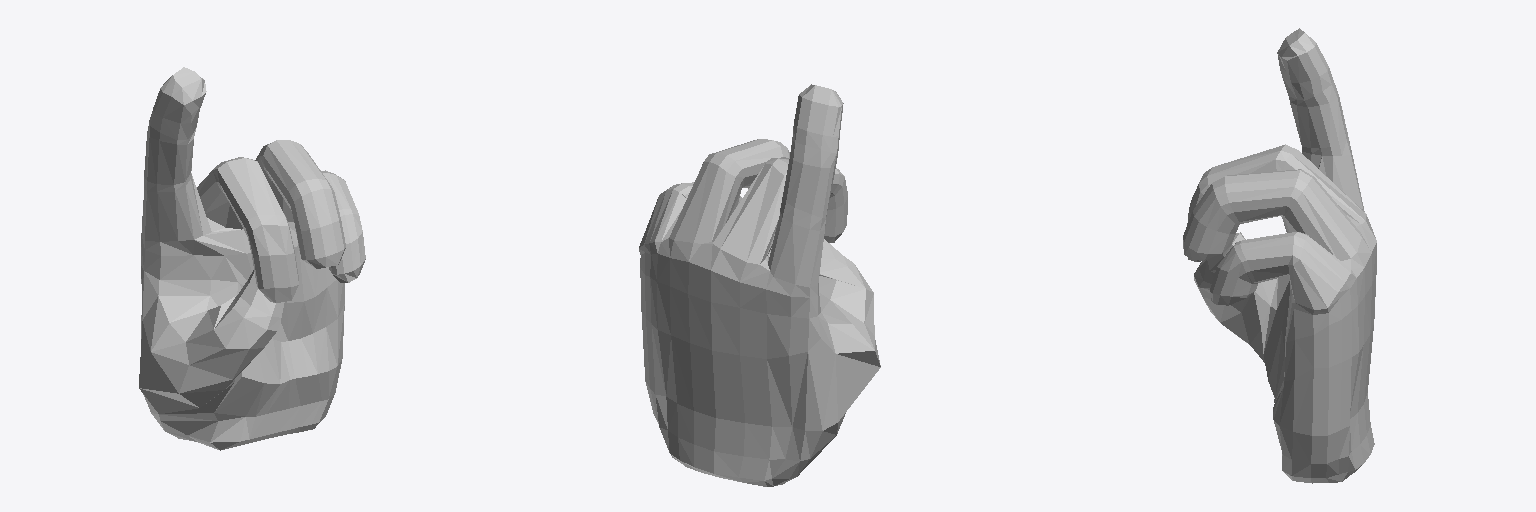
Rendered from mao_d.obj.
3 views of the same model, side by side, from view 1: azimuth 30°, elevation 25°; view 2: azimuth 150°, elevation 25°; view 3: azimuth 270°, elevation 25° (orthographic).
Visible parts, largest first — view 1: Box08; view 2: Box08; view 3: Box08.
Part boxes in pixels (x1,y1,x2,y2): Box08: (139, 67, 365, 450); Box08: (639, 84, 880, 486); Box08: (1183, 28, 1376, 483).
Size of the model in its own units: 132 by 231 by 105.